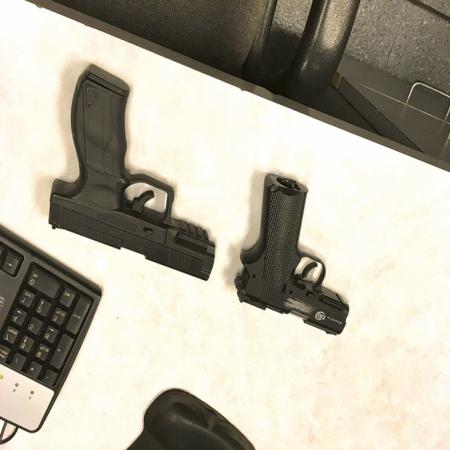Pistol: (45, 72, 217, 284), (233, 172, 353, 339)
